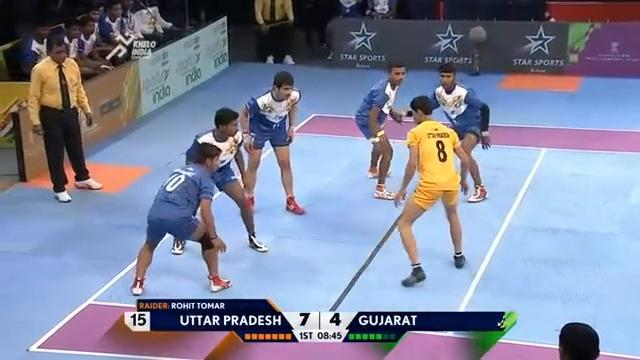Player: (129, 141, 232, 295), (170, 107, 268, 254), (26, 29, 103, 202), (238, 70, 305, 215), (428, 61, 491, 202), (354, 60, 407, 200)
Raider: (392, 94, 470, 286)
